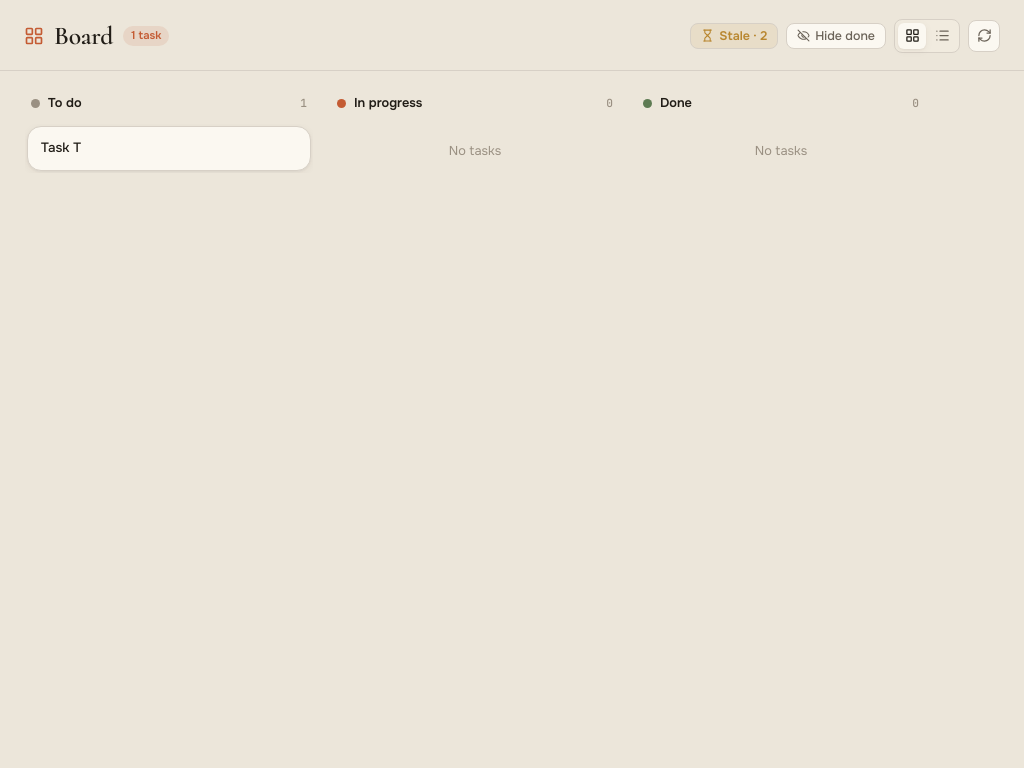
Test: BoardView DnD (BOARD-5 — optimistic + rollback, §14.6) › BOARD-6: клик по карточке открывает превью (peek), не уводит с доски
Click the button "Task T": [61, 148] box [27, 126, 311, 171]
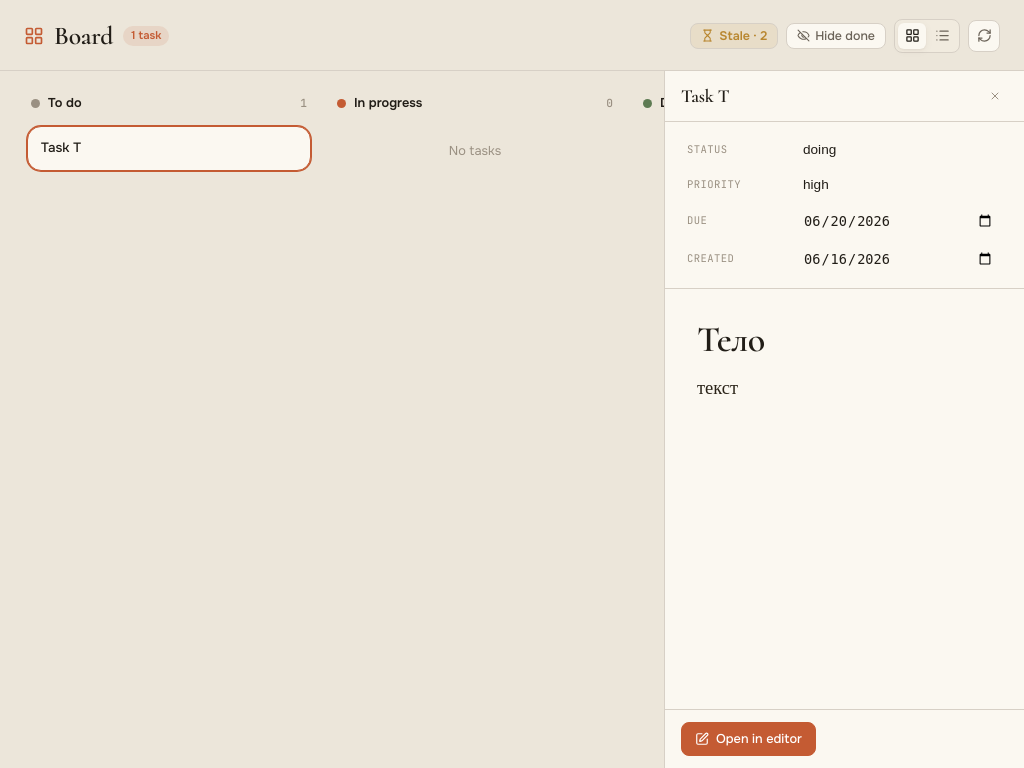
Expected: the heading "Board" is shown, [54, 16, 113, 56]
Result: the element named "Task preview" is shown at [664, 71, 1023, 767]
